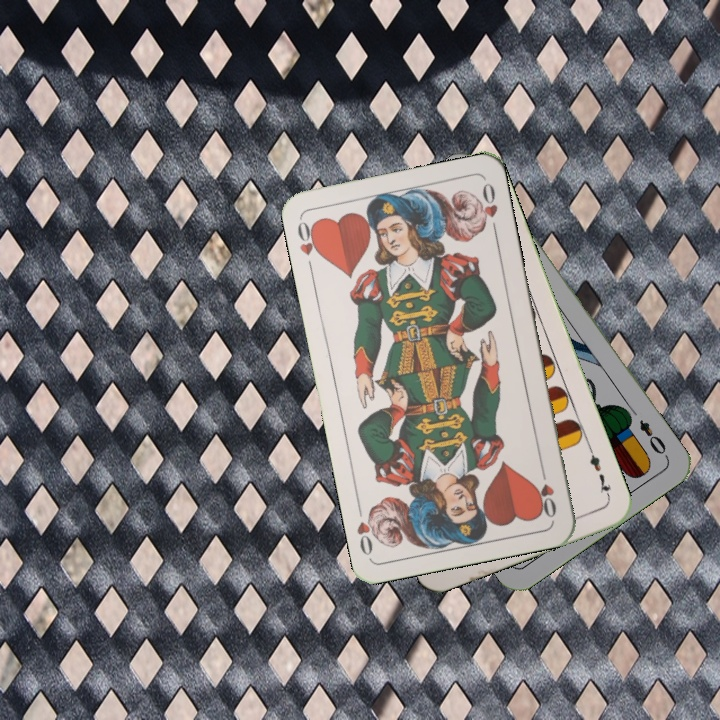E7: (585, 444, 614, 501)
EO: (635, 415, 671, 461)
HO: (293, 216, 324, 274), (533, 463, 559, 521)
